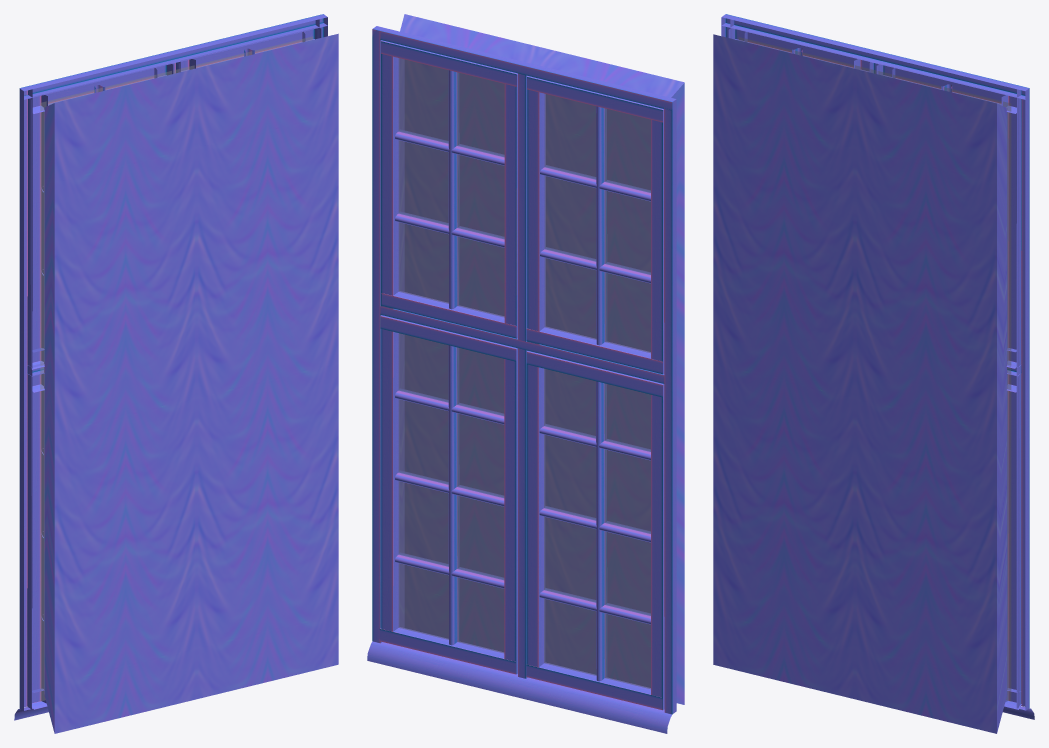
The model's file is m_window_04.fbx.
3 renders of one model, left to right at view 1: azimuth 30°, elevation 25°; view 2: azimuth 150°, elevation 25°; view 3: azimuth 330°, elevation 25°, orthographic.
Visible parts, largest first — view 1: m_Window_04_curtain_LOD0, m_Window_04_LOD0, m_Window_04_glass_LOD0; view 2: m_Window_04_LOD0, m_Window_04_curtain_LOD0, m_Window_04_glass_LOD0; view 3: m_Window_04_curtain_LOD0, m_Window_04_LOD0, m_Window_04_glass_LOD0.
Part boxes in pixels (left/top/right/bottom): m_Window_04_curtain_LOD0: left=44, top=33, right=338, bottom=733; m_Window_04_LOD0: left=14, top=14, right=327, bottom=720; m_Window_04_glass_LOD0: left=40, top=36, right=312, bottom=701; m_Window_04_LOD0: left=367, top=26, right=676, bottom=733; m_Window_04_curtain_LOD0: left=399, top=14, right=684, bottom=704; m_Window_04_glass_LOD0: left=399, top=58, right=650, bottom=688; m_Window_04_curtain_LOD0: left=713, top=34, right=1007, bottom=733; m_Window_04_LOD0: left=721, top=14, right=1034, bottom=719; m_Window_04_glass_LOD0: left=739, top=37, right=1010, bottom=701.
Bounding box in the file's own units: 150 × 300 × 24.87.
Materials: 2 (1 with a texture image).
